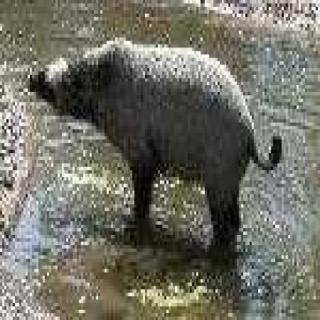Pig: (41, 25, 295, 250)
